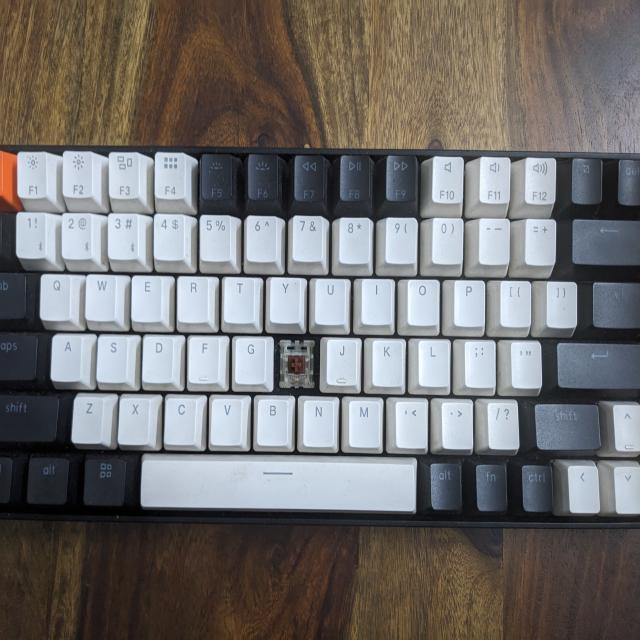key-switch: (279, 337, 314, 389)
